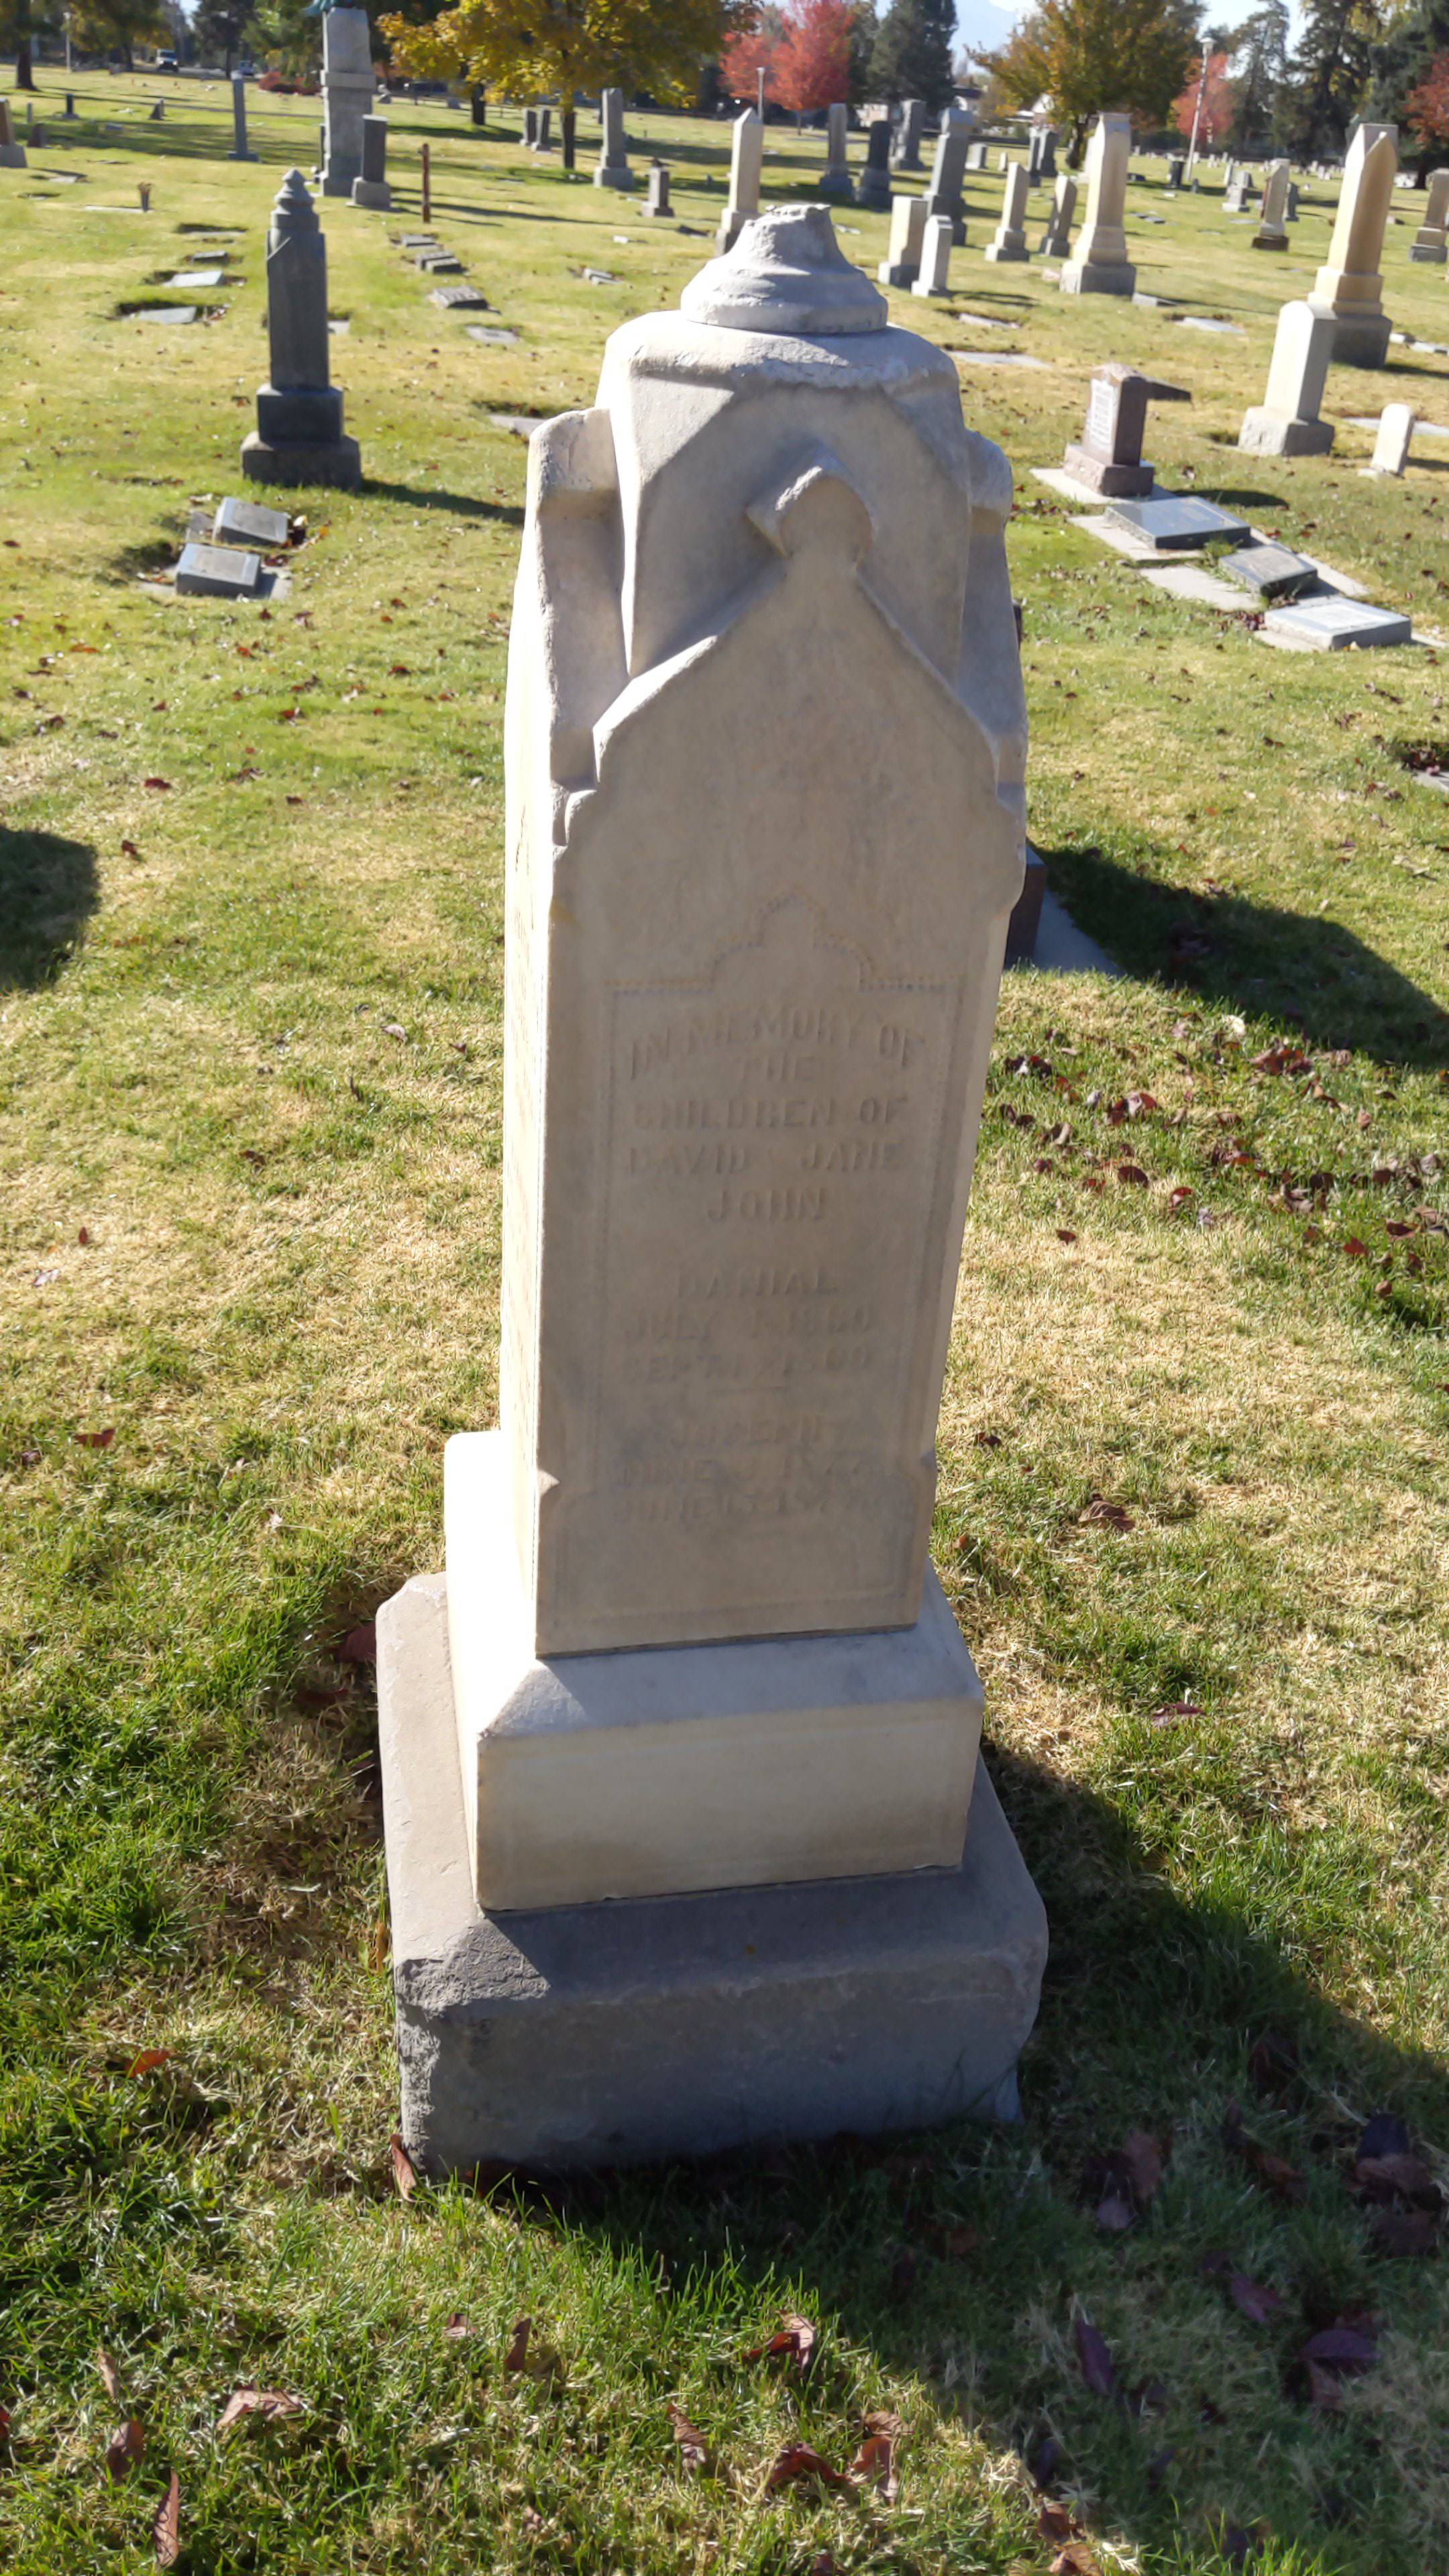obelisk: (449, 191, 1030, 1879)
